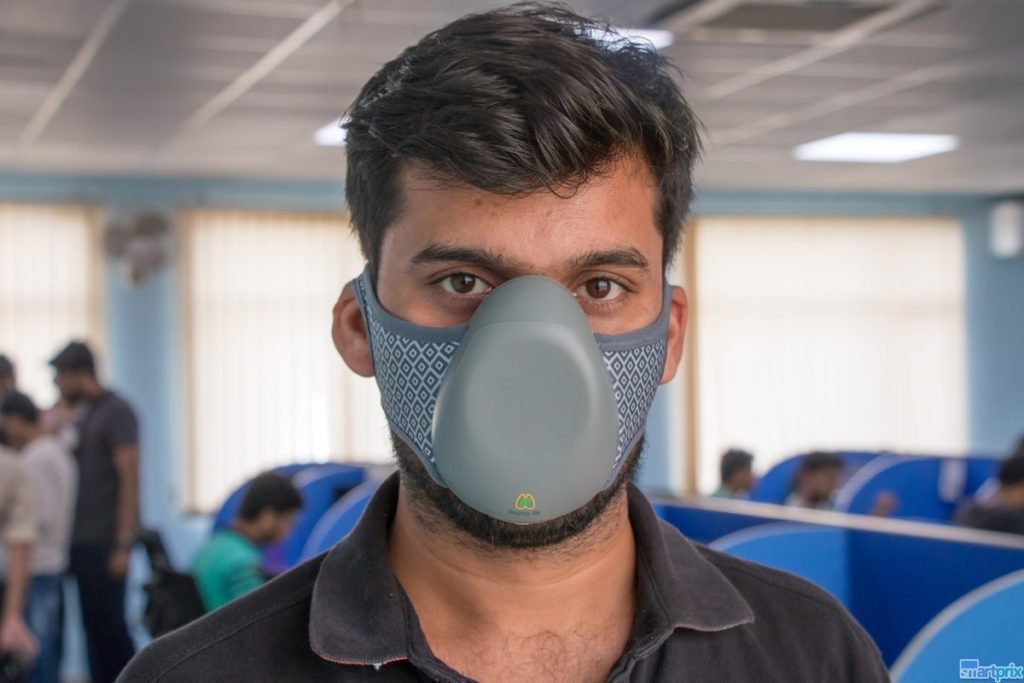mask: (319, 13, 733, 539)
